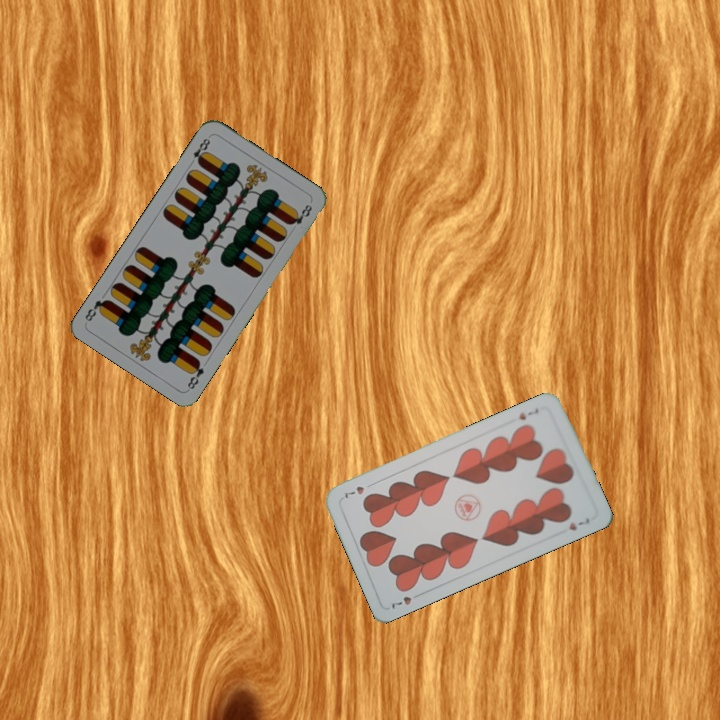E8: (186, 132, 213, 168), (183, 356, 206, 393)
H7: (387, 589, 424, 611), (515, 404, 541, 423)
